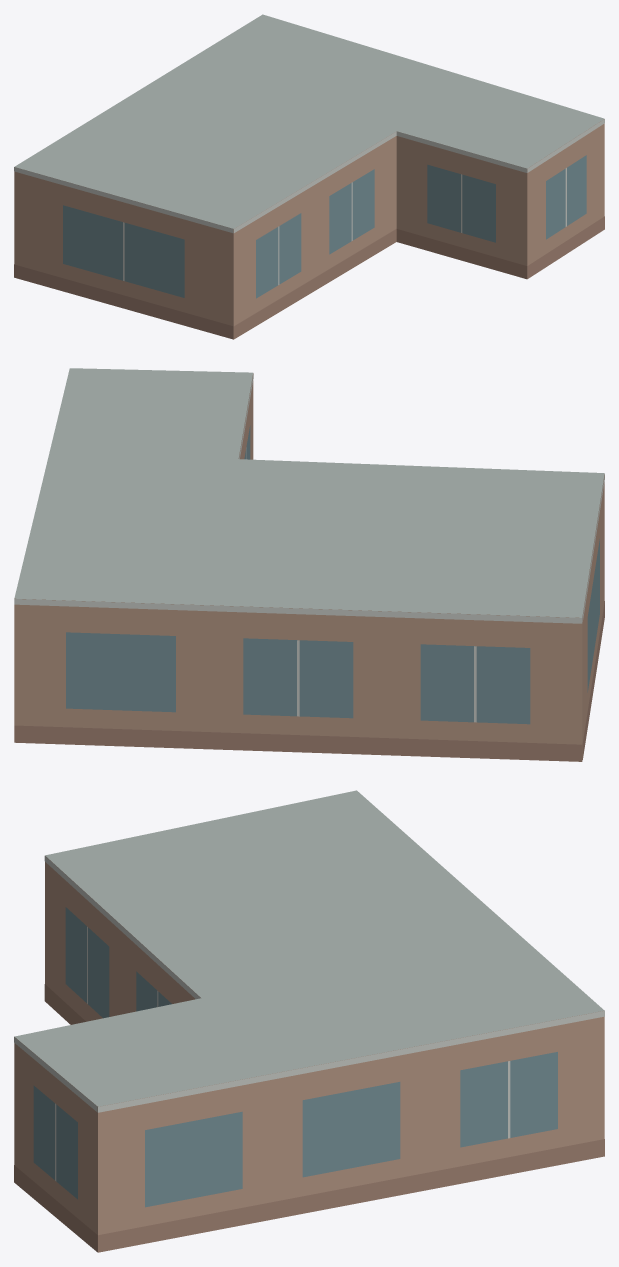
The model's file is survey-upis-33025078.glb.
3 renders of one model, top to bottom at view 1: azimuth 30°, elevation 25°; view 2: azimuth 150°, elevation 25°; view 3: azimuth 270°, elevation 25°, orthographic. The views are drawn at different scales.
Visible parts, largest first — view 1: survey-upis-33025078.tmp; view 2: survey-upis-33025078.tmp; view 3: survey-upis-33025078.tmp.
Part boxes in pixels (x1,y1,x2,y2): survey-upis-33025078.tmp: (14, 14, 604, 339); survey-upis-33025078.tmp: (14, 368, 604, 761); survey-upis-33025078.tmp: (14, 790, 604, 1252).
Size of the model in its own units: 14.21 by 3.05 by 11.21.
